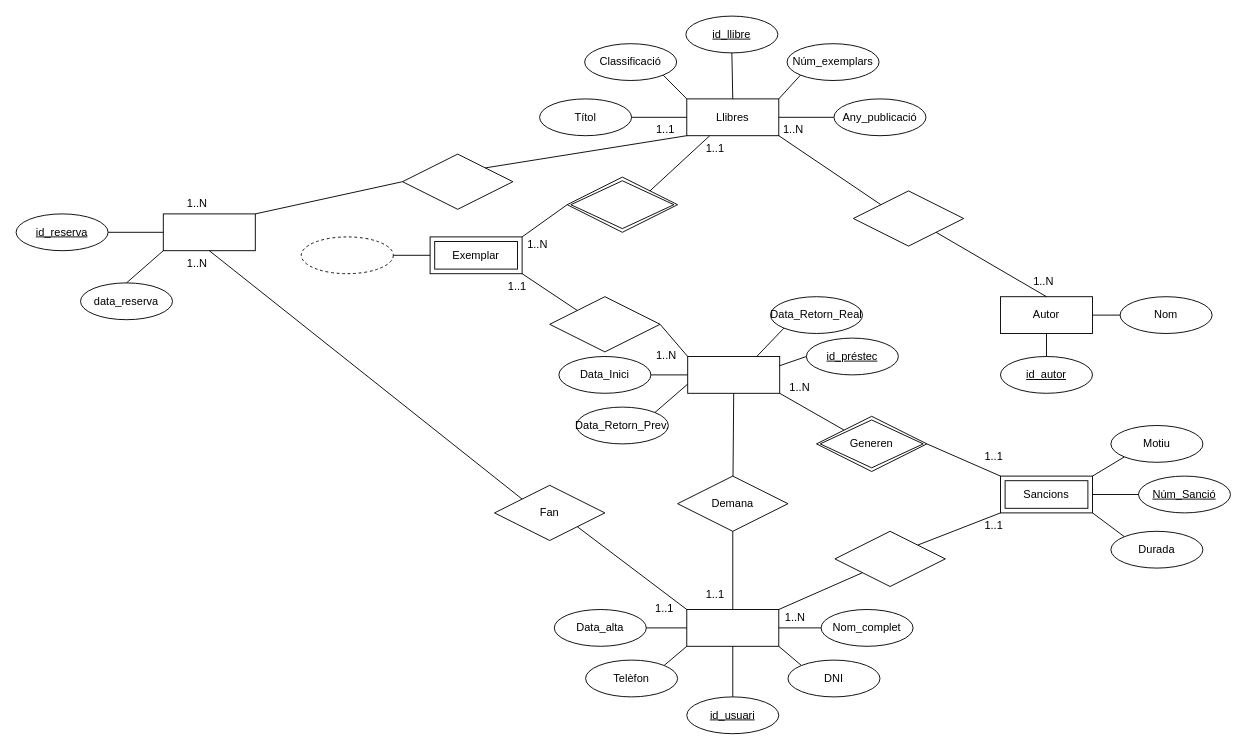
Some shapes in this 1247 by 750 pixel diagram are drawn without their labels. The centre of each missing label's shape, as x and y in pixels:
codi_intern: the point at 346,255
Conté: the point at 604,324
Escriu: the point at 908,218
Préstec: the point at 733,374
Reserves: the point at 208,232
Són: the point at 457,181
Tenen: the point at 889,558
té: the point at 622,204
Usuaris: the point at 732,627
